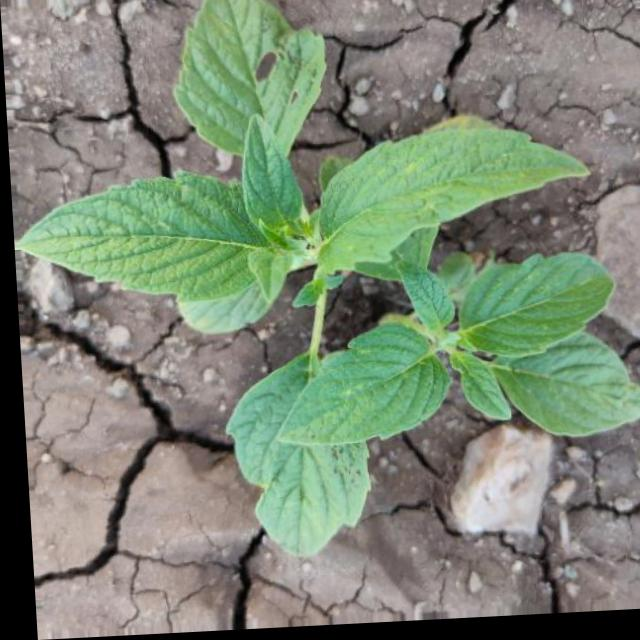crop: (2, 0, 640, 580)
